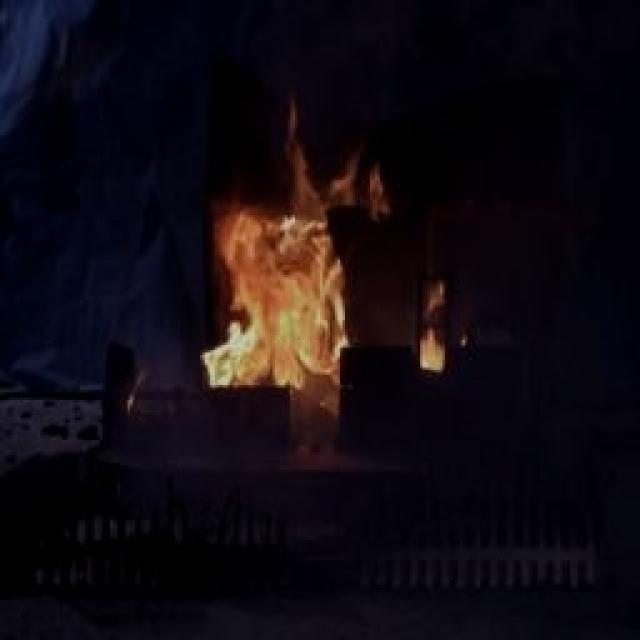fire: (202, 138, 380, 410)
